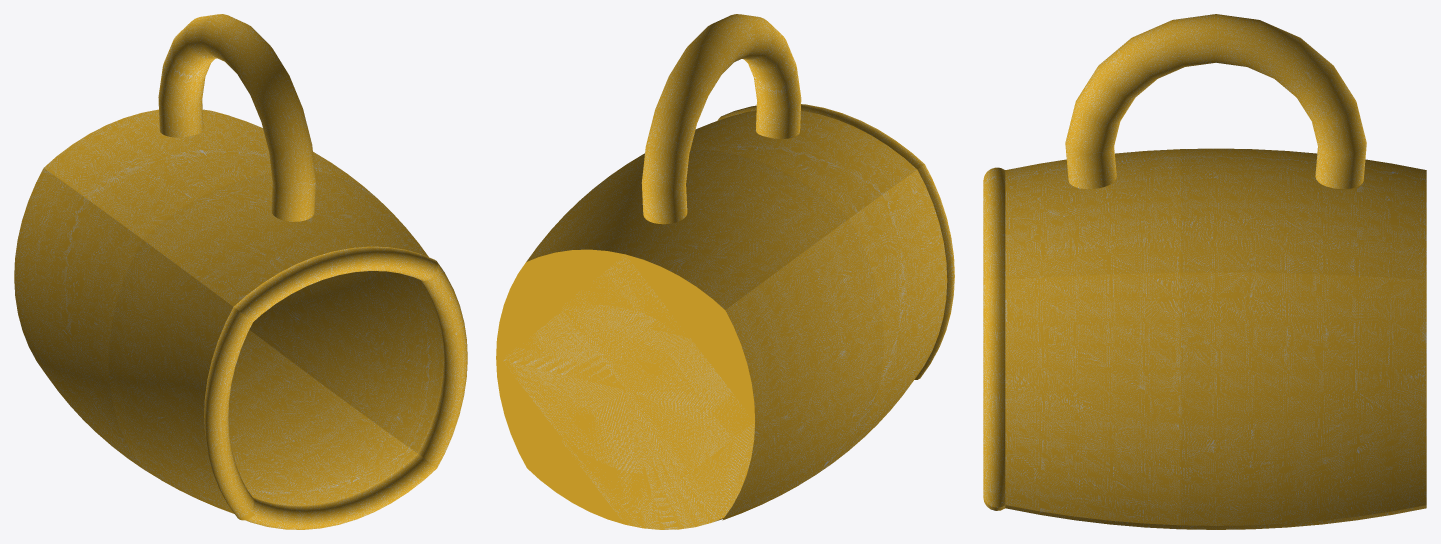
Rendered from model_align.obj.
The picture shows the model from 3 angles, left to right: view 1: azimuth 30°, elevation 25°; view 2: azimuth 150°, elevation 25°; view 3: azimuth 270°, elevation 25°; orthographic projection. The views are drawn at different scales.
Parts seen in each view (by area): view 1: mesh1_mesh1-geometry, mesh3_mesh3-geometry; view 2: mesh1_mesh1-geometry, mesh3_mesh3-geometry; view 3: mesh1_mesh1-geometry, mesh3_mesh3-geometry.
Boxes of the visible parts, box(x1,y1,x2,y2) form: mesh1_mesh1-geometry: box(14, 109, 467, 529); mesh3_mesh3-geometry: box(158, 14, 316, 221); mesh1_mesh1-geometry: box(496, 104, 954, 529); mesh3_mesh3-geometry: box(641, 14, 801, 224); mesh1_mesh1-geometry: box(983, 148, 1426, 529); mesh3_mesh3-geometry: box(1065, 14, 1366, 189).
Bounding box in the file's own units: 0.0791 × 0.1156 × 0.0945.
